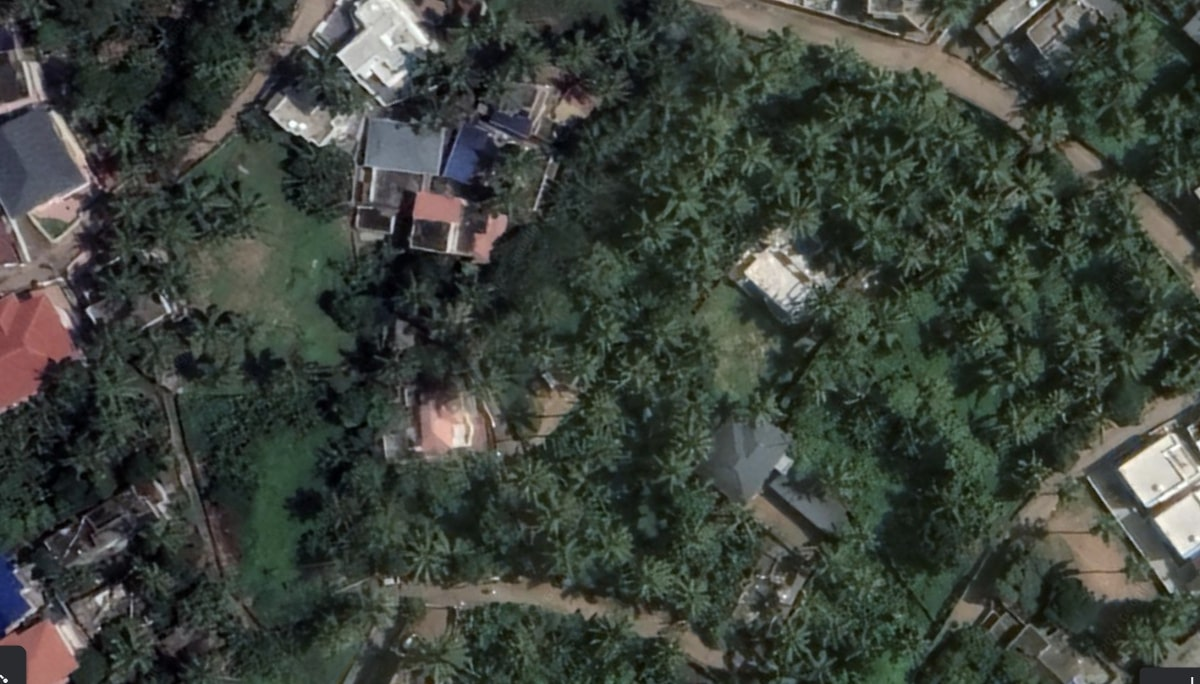coconut: (100, 188, 162, 236), (769, 190, 830, 236), (1115, 331, 1163, 389), (666, 559, 712, 619), (89, 110, 146, 156), (1114, 10, 1167, 56), (683, 103, 727, 158), (413, 636, 463, 684), (626, 212, 681, 255), (1023, 97, 1070, 147), (582, 307, 628, 356), (869, 142, 915, 189), (767, 618, 812, 666), (389, 277, 439, 320), (1158, 149, 1196, 205), (587, 614, 634, 659), (185, 311, 231, 356), (1009, 163, 1061, 202), (925, 480, 970, 525), (1106, 101, 1152, 145), (1113, 52, 1159, 96), (405, 532, 447, 580), (512, 460, 560, 502), (1151, 97, 1195, 142), (59, 437, 107, 478), (702, 183, 750, 224), (611, 23, 659, 64), (849, 368, 889, 417), (552, 28, 605, 64), (697, 31, 743, 72), (92, 405, 139, 444), (819, 90, 862, 132), (821, 40, 865, 81), (806, 537, 848, 579), (904, 68, 947, 109), (657, 444, 697, 488), (90, 362, 136, 400), (182, 183, 222, 226), (590, 64, 634, 103), (862, 59, 899, 105), (1009, 453, 1050, 494), (593, 518, 633, 559), (674, 420, 713, 462), (731, 135, 774, 173), (1057, 324, 1102, 360), (663, 178, 702, 219), (770, 28, 813, 65), (221, 307, 262, 345), (894, 238, 932, 279), (221, 195, 263, 232), (631, 554, 667, 597), (918, 204, 953, 248), (972, 150, 1011, 189), (798, 280, 834, 322), (647, 319, 686, 357), (1076, 33, 1114, 71), (993, 265, 1032, 302), (846, 564, 882, 604), (969, 312, 1008, 348), (817, 459, 860, 491), (102, 271, 139, 307), (867, 301, 903, 338), (745, 388, 781, 425), (1002, 342, 1040, 377), (591, 388, 626, 423), (1003, 400, 1037, 436), (530, 339, 566, 372), (114, 233, 147, 267), (1099, 177, 1134, 209), (554, 539, 585, 575), (944, 186, 975, 221), (1008, 235, 1038, 271), (653, 638, 687, 668), (821, 613, 849, 646), (1057, 238, 1090, 266), (848, 631, 876, 663)
